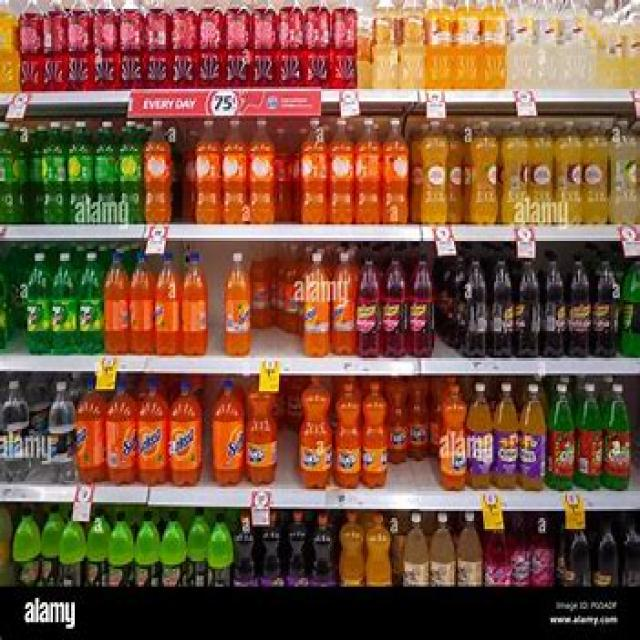7up: (20, 251, 57, 354), (75, 244, 105, 356), (54, 247, 78, 359)
fanta: (172, 390, 205, 486), (210, 392, 243, 484), (142, 388, 172, 484), (78, 391, 108, 481), (112, 386, 136, 477)
